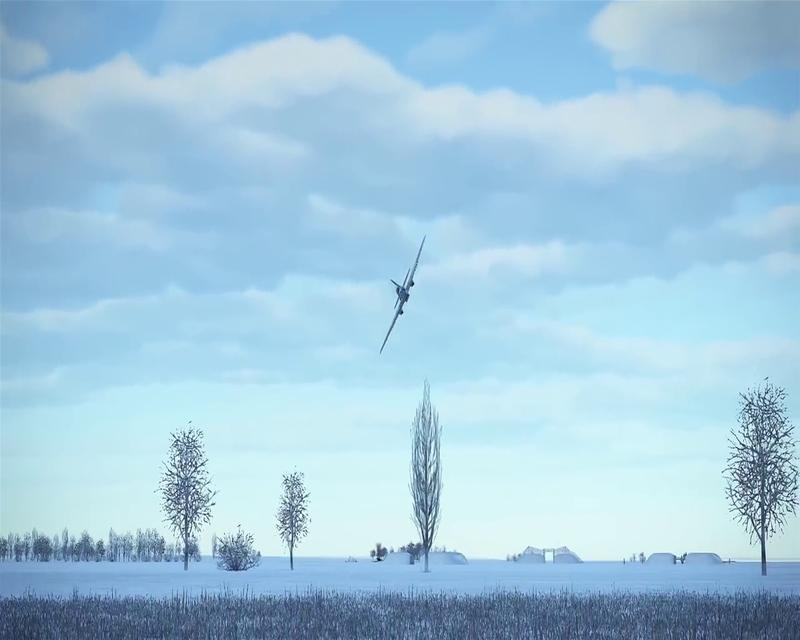UAV: (378, 233, 427, 353)
